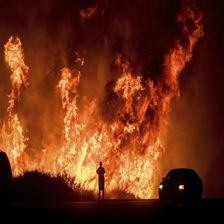fire: (5, 26, 205, 197)
